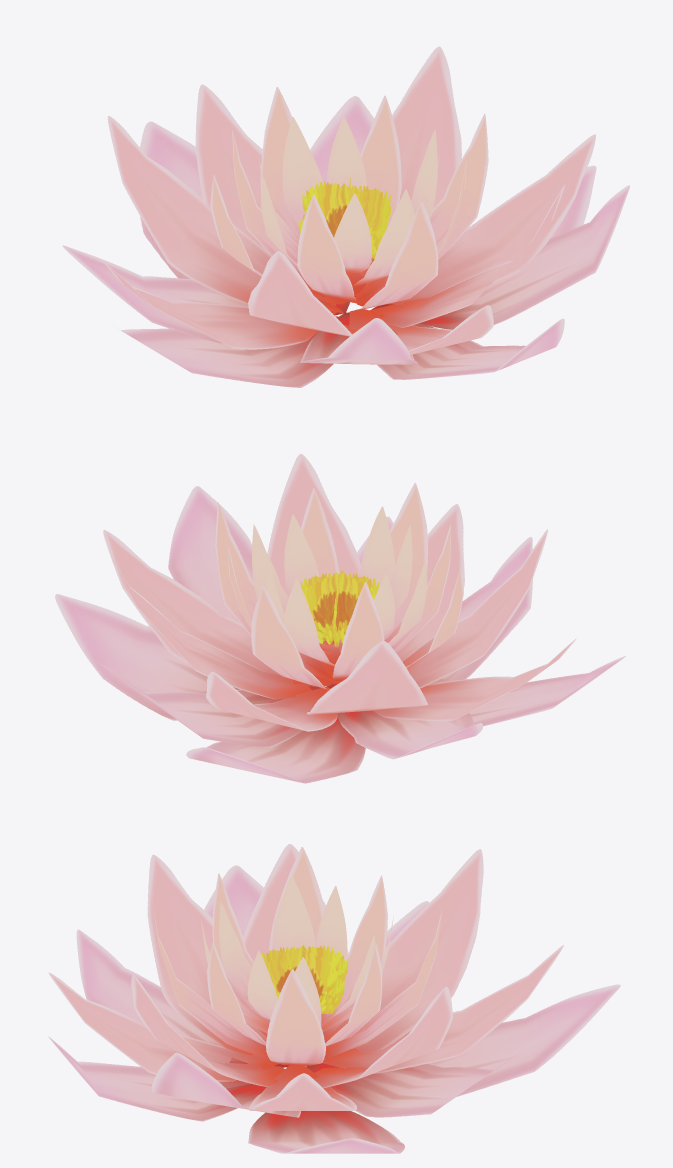
File: lily_flower.fbx
The picture shows the model from 3 angles, top to bottom: view 1: azimuth 30°, elevation 25°; view 2: azimuth 150°, elevation 25°; view 3: azimuth 270°, elevation 25°; orthographic projection. The views are drawn at different scales.
Parts seen in each view (by area): view 1: lily_low; view 2: lily_low; view 3: lily_low.
Boxes of the visible parts, left/top/right/bottom form: lily_low: left=62, top=46, right=629, bottom=387; lily_low: left=55, top=454, right=625, bottom=783; lily_low: left=48, top=844, right=620, bottom=1153.
Size of what is drawn, in the model's own units: 130 by 43.29 by 124.
